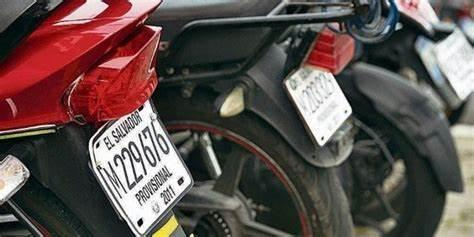placa de veiculo: (65, 98, 200, 227), (268, 56, 367, 164)
